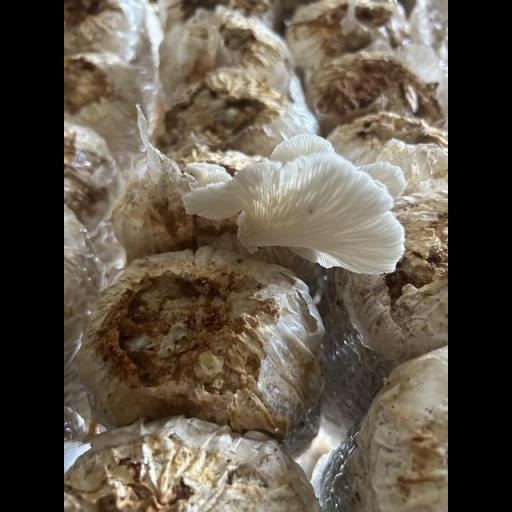White Oyster Mushroom: (171, 123, 418, 288)
